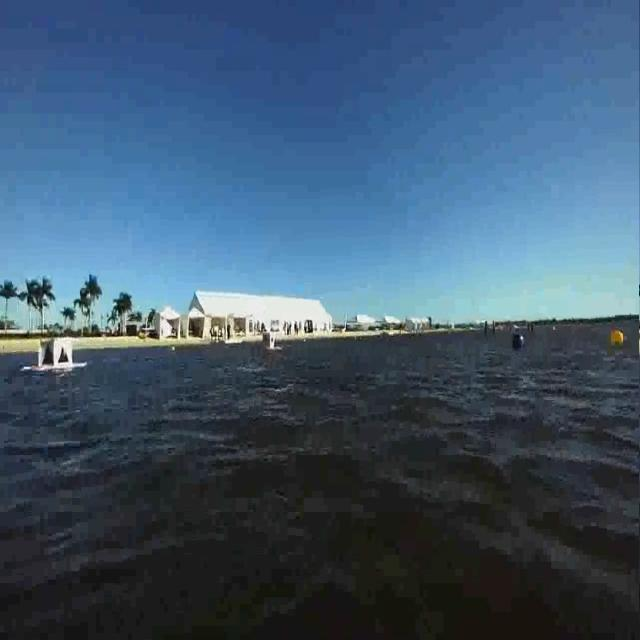blue-buoy: (510, 334, 527, 354)
yellow-buoy: (612, 330, 626, 347)
